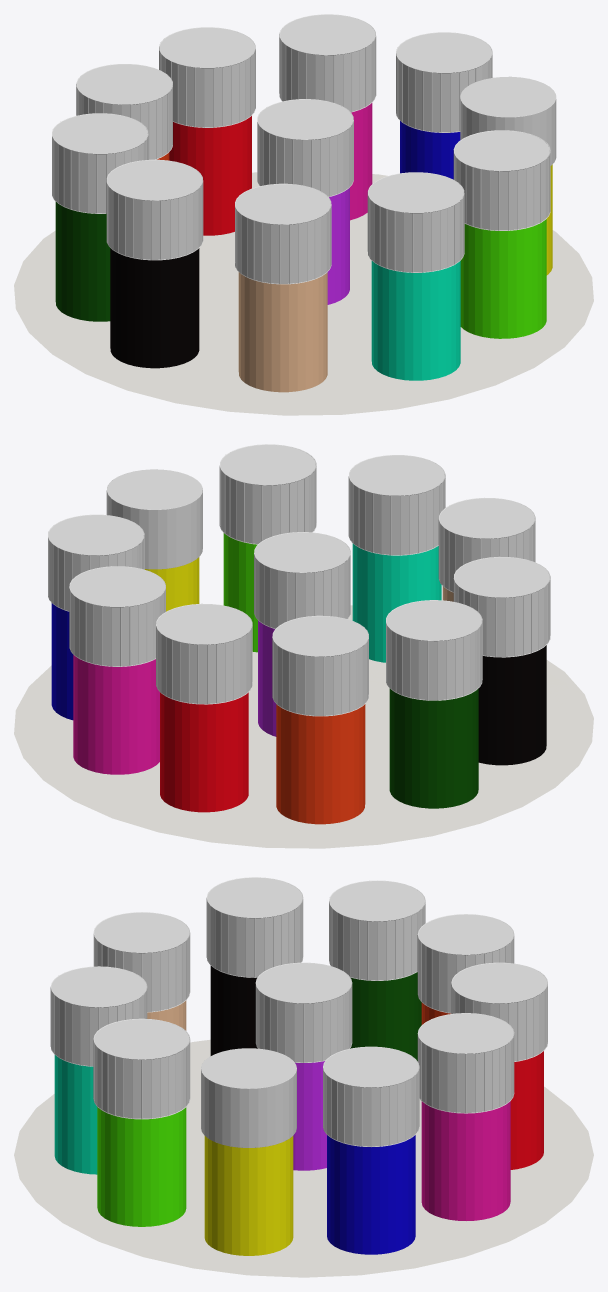
The model's file is kumkum.glb.
3 views of the same model, one above another, from view 1: azimuth 30°, elevation 25°; view 2: azimuth 150°, elevation 25°; view 3: azimuth 270°, elevation 25° (orthographic).
Parts seen in each view (by area): view 1: Cylinder.003; view 2: Cylinder.003; view 3: Cylinder.003.
Part boxes in pixels (left/top/right/bottom): Cylinder.003: left=14, top=14, right=593, bottom=415; Cylinder.003: left=14, top=444, right=593, bottom=848; Cylinder.003: left=14, top=877, right=593, bottom=1277.
Size of the model in its own units: 2 by 0.6582 by 2.
